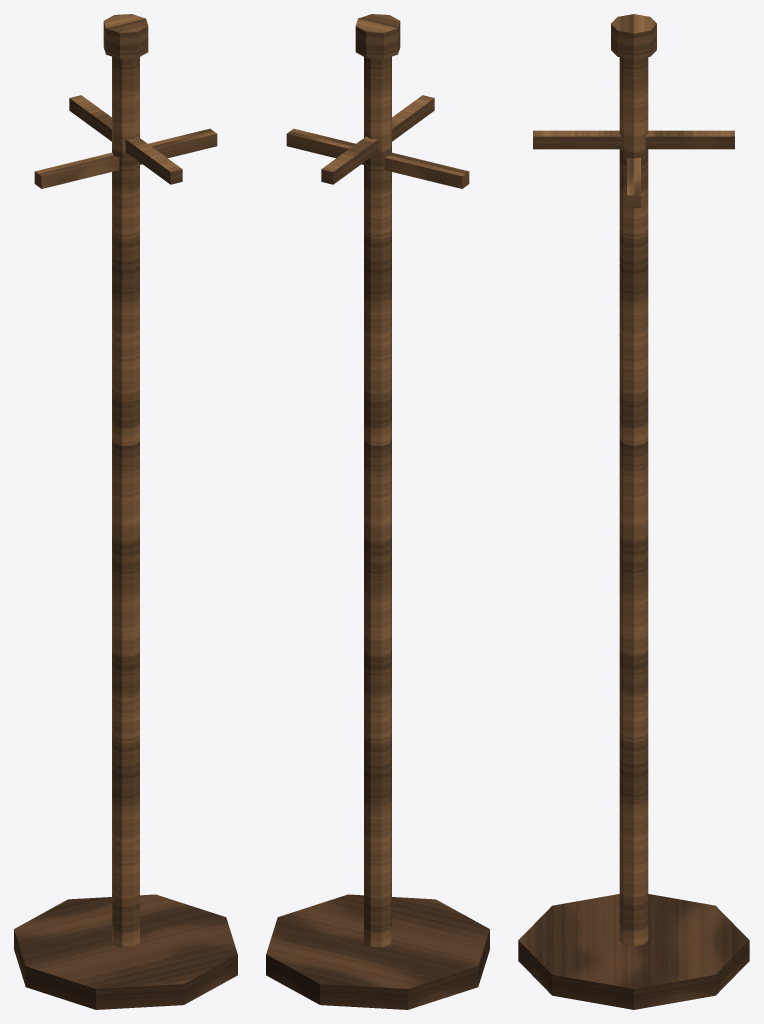
The model's file is coat_rack.fbx.
The picture shows the model from 3 angles, left to right: view 1: azimuth 30°, elevation 25°; view 2: azimuth 150°, elevation 25°; view 3: azimuth 270°, elevation 25°; orthographic projection.
Parts seen in each view (by area): view 1: coat_rack; view 2: coat_rack; view 3: coat_rack.
Boxes of the visible parts, x1,y1,x2,y2 form: coat_rack: [14, 14, 237, 1009]; coat_rack: [266, 14, 489, 1009]; coat_rack: [518, 14, 749, 1009].
Bounding box in the file's own units: 40 × 179 × 40.
